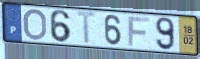6: (49, 9, 73, 44), (103, 14, 122, 47)
9: (154, 16, 176, 51)
F: (127, 16, 151, 48)
O: (22, 8, 48, 42)
T: (75, 10, 99, 46)
